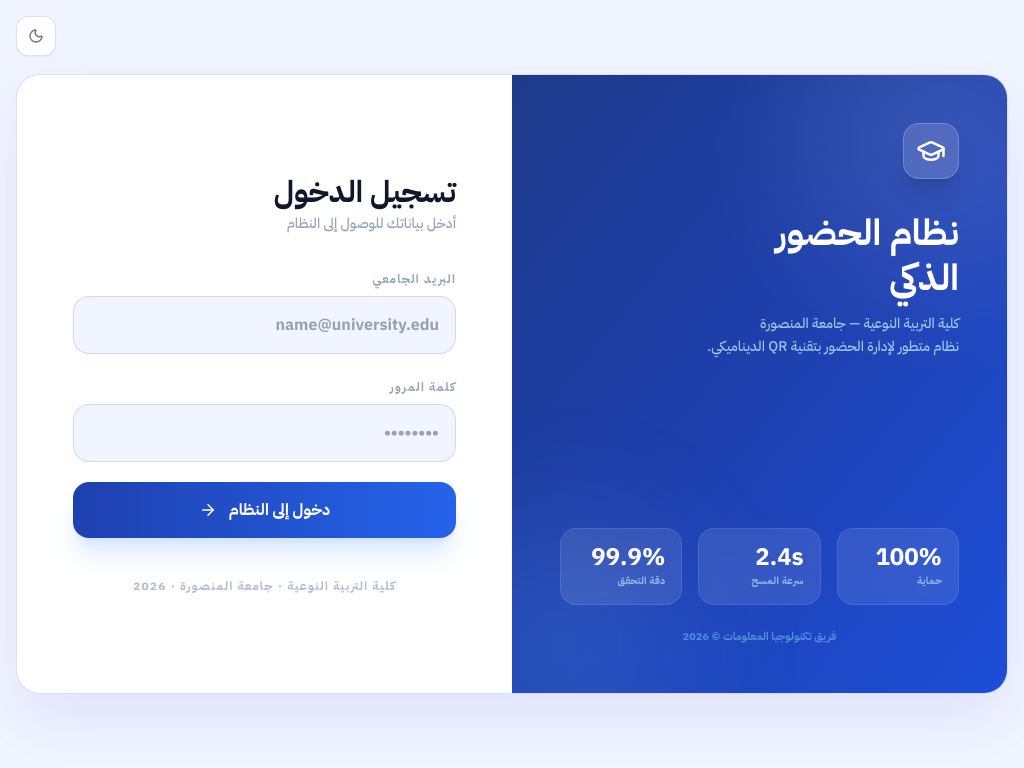
it: App smoke — routing & auth guard › logging in routes the user to their role dashboard
Expected: the heading "تسجيل الدخول" is shown, [274,169,456,214]
Type "a@b.com" into the field labelled "البريد الجامعي".
click(264, 325); type("a@b.com")  # box [73,296,456,354]
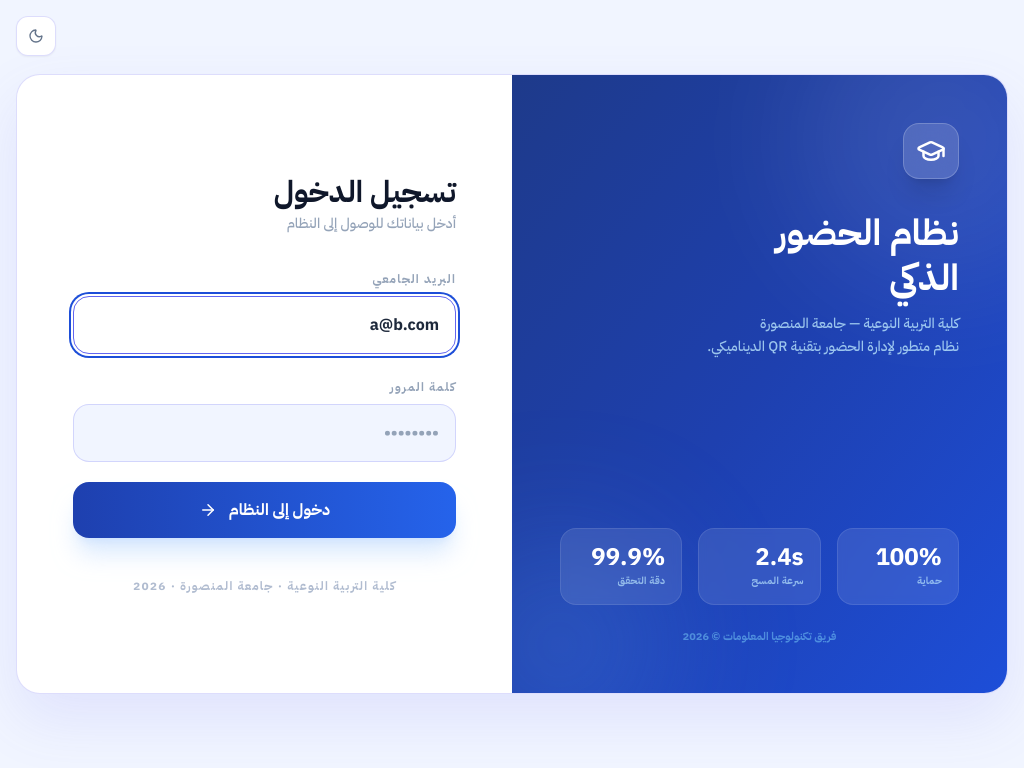
Type "pw" into the password field labelled "كلمة المرور".
click(264, 433); type("pw")  # box [73,404,456,462]
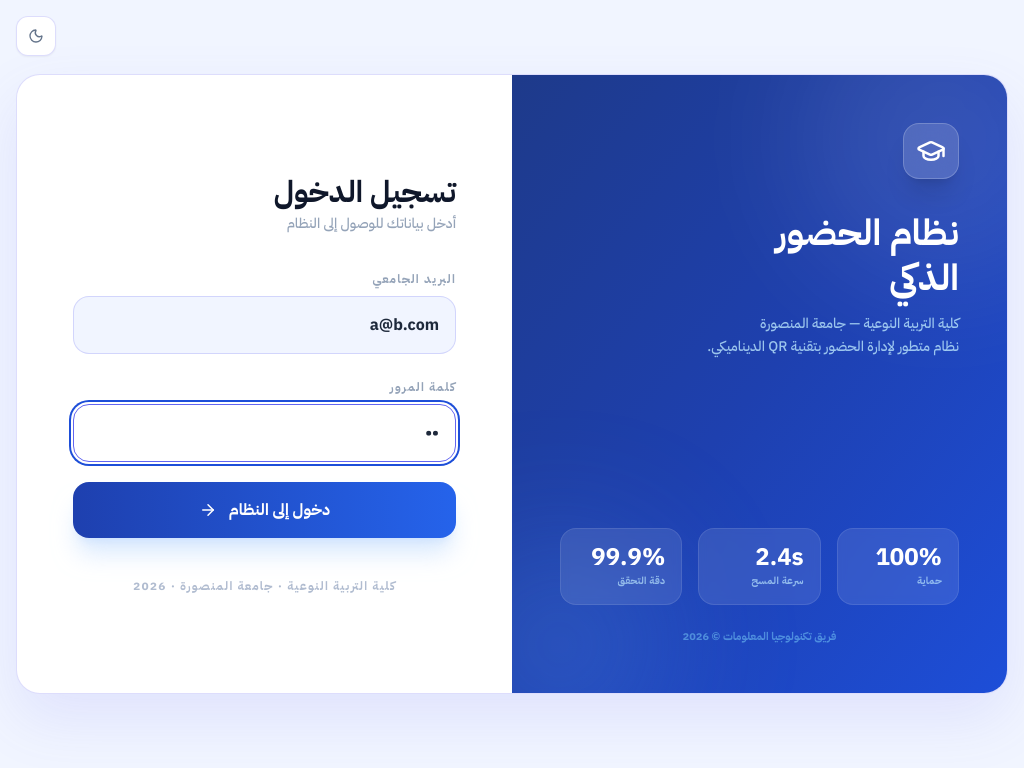
Click the button "دخول إلى النظام".
click(264, 510)  # box [73,482,456,538]
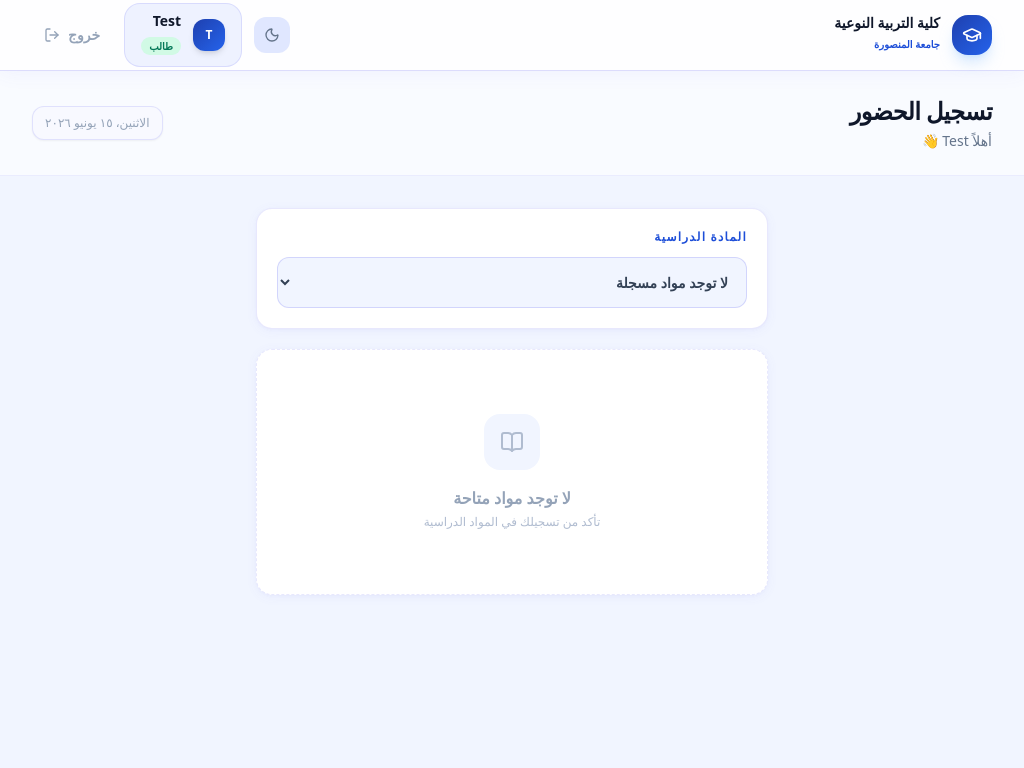
Expected: the heading "تسجيل الحضور" is shown, [850,95,992,127]
